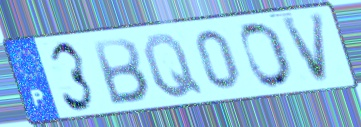0: (194, 27, 244, 93)
3: (47, 39, 98, 114)
B: (90, 36, 153, 107)
O: (239, 20, 294, 91)
Q: (140, 32, 207, 101)
V: (279, 10, 330, 87)
